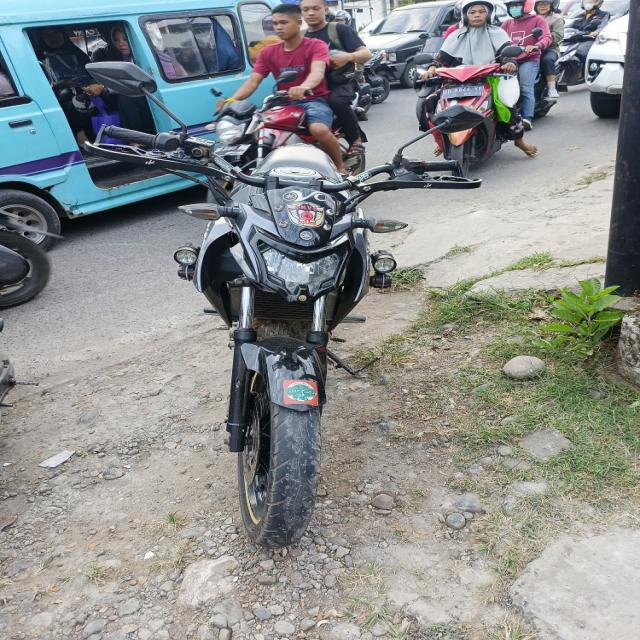plates: (433, 80, 489, 99)
